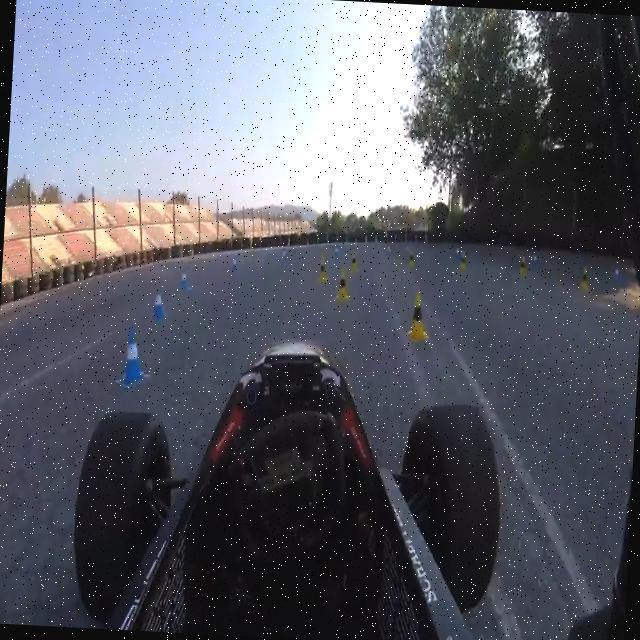blue_cone: (115, 322, 148, 387), (150, 284, 168, 326), (177, 272, 190, 299), (228, 256, 240, 278)
yellow_cone: (406, 294, 428, 340), (337, 267, 350, 302), (348, 249, 361, 279), (316, 256, 329, 284), (516, 256, 528, 282), (580, 268, 590, 296), (458, 248, 468, 274), (408, 251, 416, 271)
